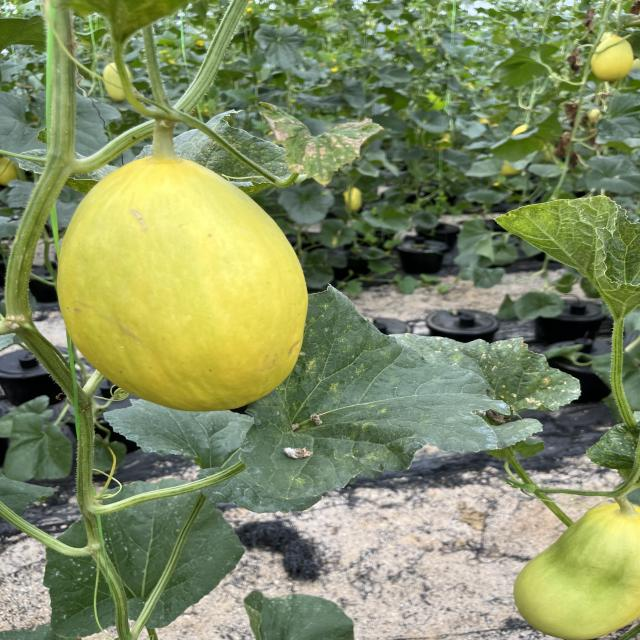CMV: (492, 197, 640, 316)
downy mildew: (213, 286, 509, 502), (388, 333, 581, 413)
powdery mildew: (205, 288, 511, 503), (385, 323, 582, 414)
